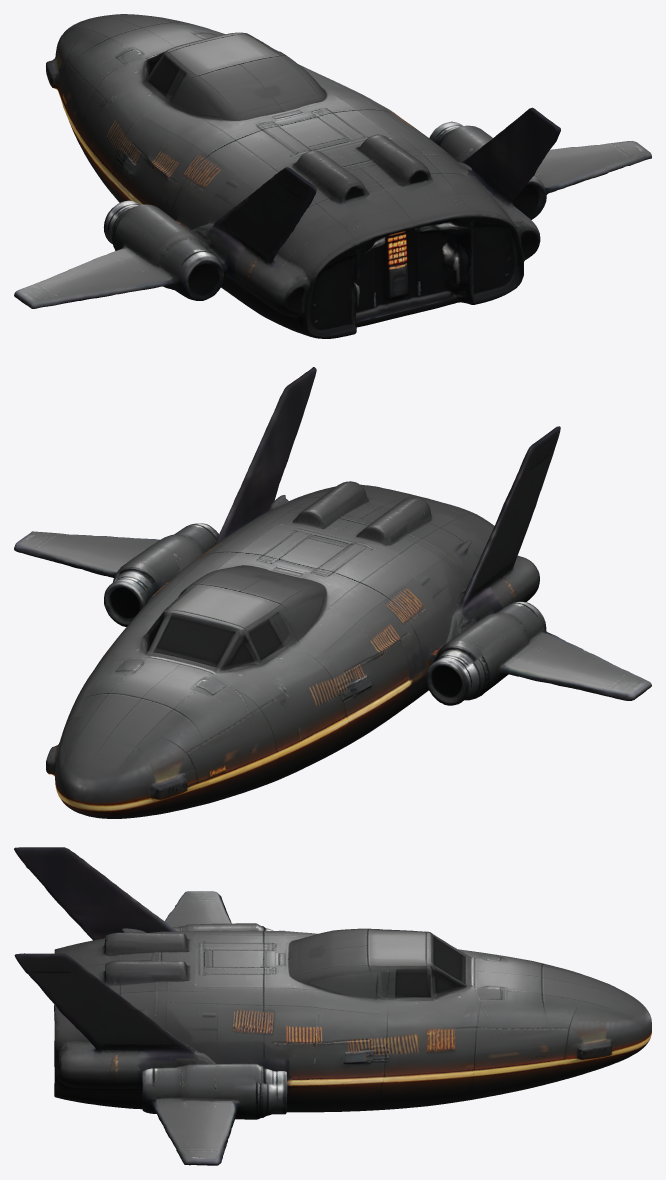
The model's file is spaceplane.glb.
3 renders of one model, top to bottom at view 1: azimuth 30°, elevation 25°; view 2: azimuth 150°, elevation 25°; view 3: azimuth 270°, elevation 25°, orthographic. The views are drawn at different scales.
Parts seen in each view (by area): view 1: input; view 2: input; view 3: input.
Part boxes in pixels (box(x1,y1,x2,y2)): input: box(14, 14, 651, 338); input: box(14, 367, 651, 818); input: box(14, 847, 651, 1165).
Bounding box in the file's own units: 9 × 2.86 × 8.99.
1 material, 1 textured.
